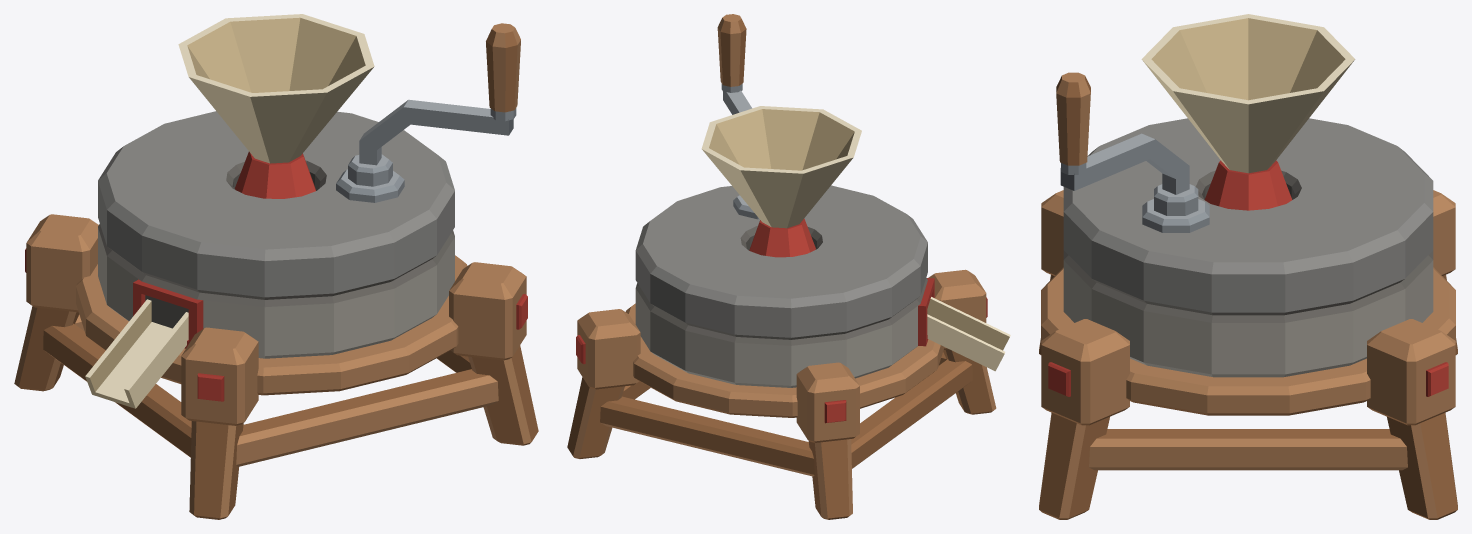
The model's file is FMS_Workshop_STA_06.fbx.
3 renders of one model, left to right at view 1: azimuth 30°, elevation 25°; view 2: azimuth 150°, elevation 25°; view 3: azimuth 270°, elevation 25°, orthographic. The views are drawn at different scales.
Visible parts, largest first — view 1: FMS_Workshop_STA_06_Base, FMS_Workshop_STA_06_UpperStone, FMS_Workshop_STA_06_Crank; view 2: FMS_Workshop_STA_06_Base, FMS_Workshop_STA_06_UpperStone, FMS_Workshop_STA_06_Crank; view 3: FMS_Workshop_STA_06_Base, FMS_Workshop_STA_06_UpperStone, FMS_Workshop_STA_06_Crank.
Part boxes in pixels (x1,y1,x2,y2): FMS_Workshop_STA_06_Base: (14,214,538,519); FMS_Workshop_STA_06_UpperStone: (98,14,454,299); FMS_Workshop_STA_06_Crank: (336,23,520,202); FMS_Workshop_STA_06_Base: (567,269,1010,519); FMS_Workshop_STA_06_UpperStone: (635,106,927,339); FMS_Workshop_STA_06_Crank: (717,14,759,219); FMS_Workshop_STA_06_Base: (1039,190,1457,519); FMS_Workshop_STA_06_UpperStone: (1063,14,1433,315); FMS_Workshop_STA_06_Crank: (1056,72,1209,232).
Size of what is drawn, in the model's own units: 0.9331 by 0.8996 by 0.7956.
1 material, 1 textured.
